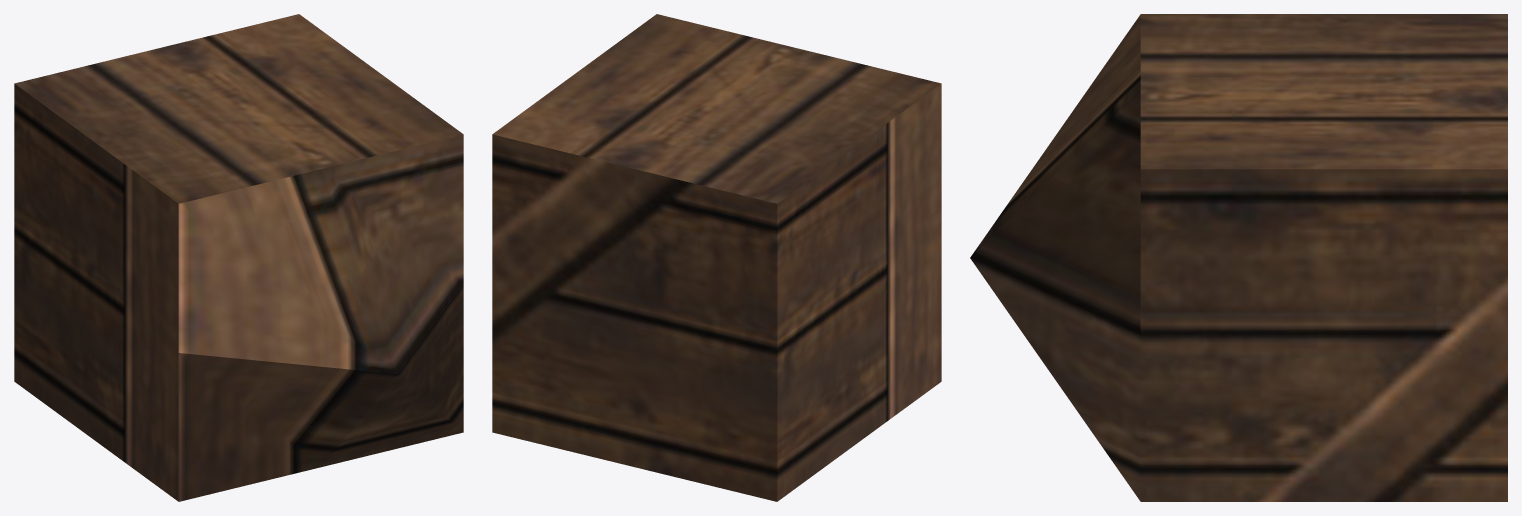
Rendered from enemy.gltf.
The picture shows the model from 3 angles, left to right: view 1: azimuth 30°, elevation 25°; view 2: azimuth 150°, elevation 25°; view 3: azimuth 270°, elevation 25°; orthographic projection. The views are drawn at different scales.
Parts seen in each view (by area): view 1: Cube; view 2: Cube; view 3: Cube.
Boxes of the visible parts, <box> form: Cube: <box>14,14,463,501</box>; Cube: <box>492,14,941,501</box>; Cube: <box>970,14,1507,501</box>.
Bounding box in the file's own units: 2 × 2 × 2.93.
1 material, 1 textured.
